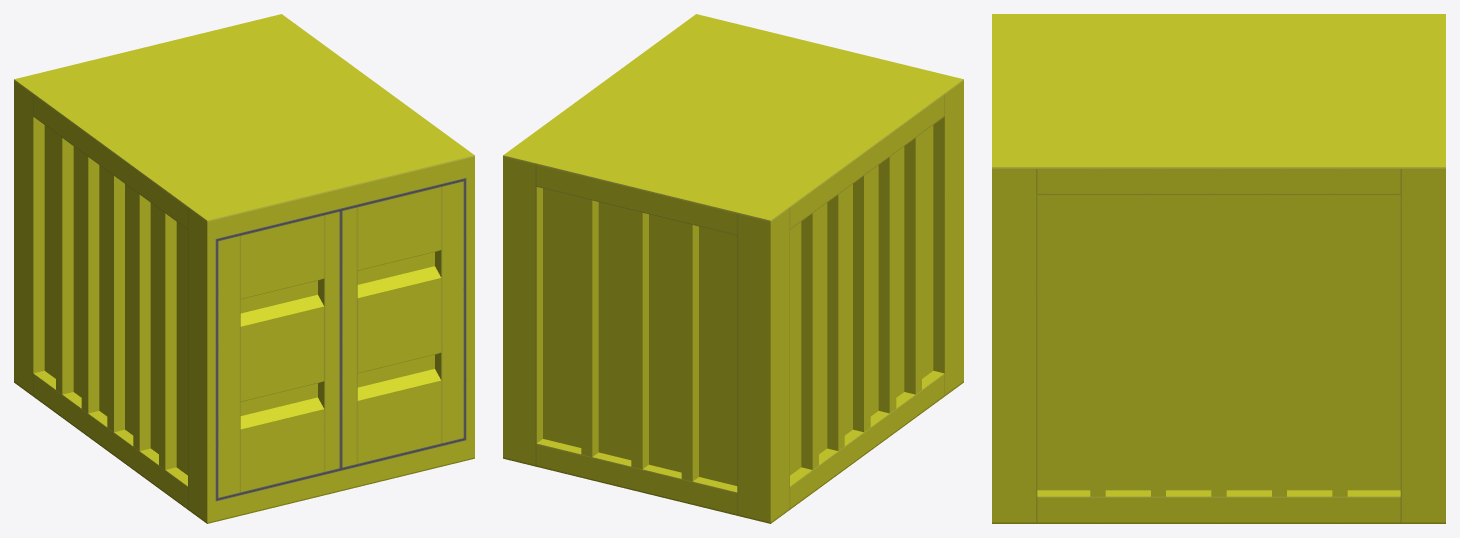
File: OB_Container_31 1.fbx
The picture shows the model from 3 angles, left to right: view 1: azimuth 30°, elevation 25°; view 2: azimuth 150°, elevation 25°; view 3: azimuth 270°, elevation 25°; orthographic projection. The views are drawn at different scales.
Visible parts, largest first — view 1: Container_31; view 2: Container_31; view 3: Container_31.
Boxes of the visible parts, x1,y1,x2,y2 form: Container_31: (14, 14, 474, 523); Container_31: (503, 14, 963, 523); Container_31: (992, 14, 1445, 523).
Size of the model in its own units: 240 by 260 by 300.
